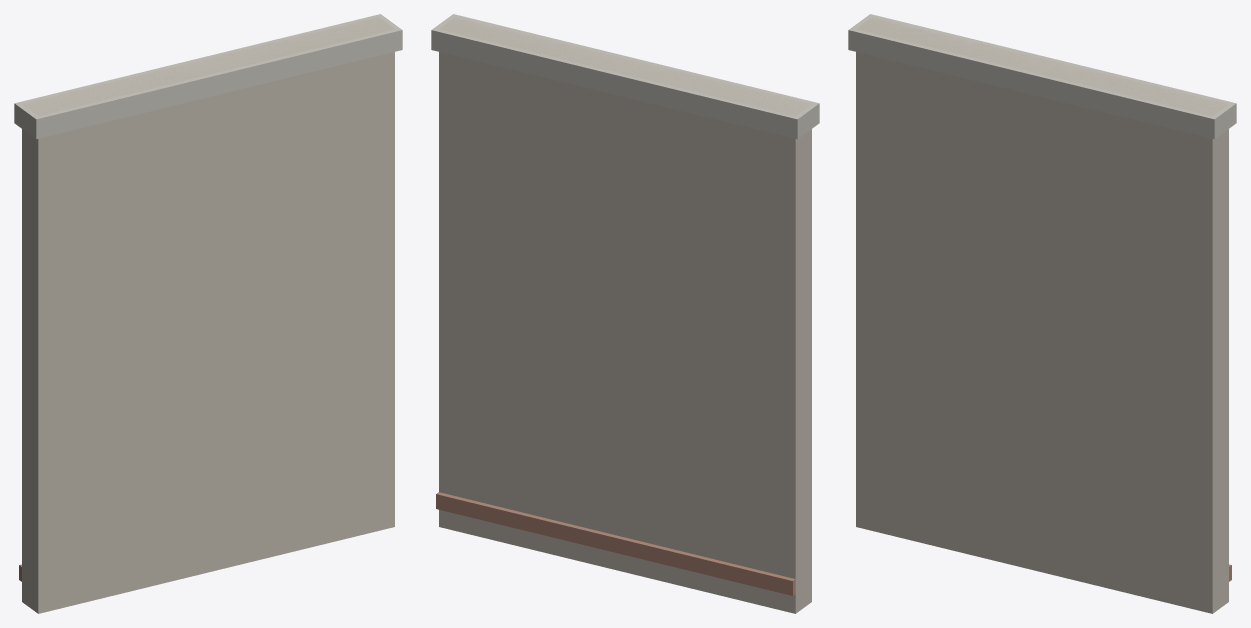
The model's file is iz3_neighborhood_cephe_geniş.glb.
3 renders of one model, left to right at view 1: azimuth 30°, elevation 25°; view 2: azimuth 150°, elevation 25°; view 3: azimuth 330°, elevation 25°, orthographic.
Parts seen in each view (by area): view 1: wall, cornice; view 2: wall, cornice, sill; view 3: wall, cornice.
Part boxes in pixels (x1,y1,x2,y2): wall: (22, 17, 394, 613); cornice: (14, 14, 402, 139); wall: (439, 17, 811, 613); cornice: (431, 14, 819, 139); sill: (436, 492, 795, 595); wall: (856, 17, 1228, 613); cornice: (848, 14, 1236, 139).
Bounding box in the file's own units: 3.08 × 4 × 0.32.
